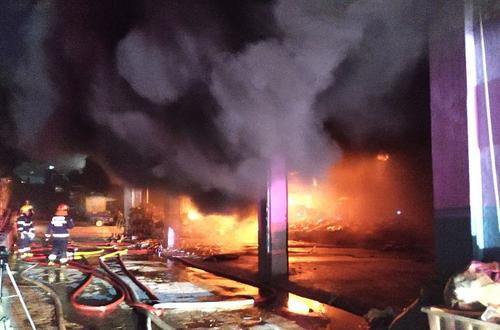smoke: (30, 13, 436, 145)
